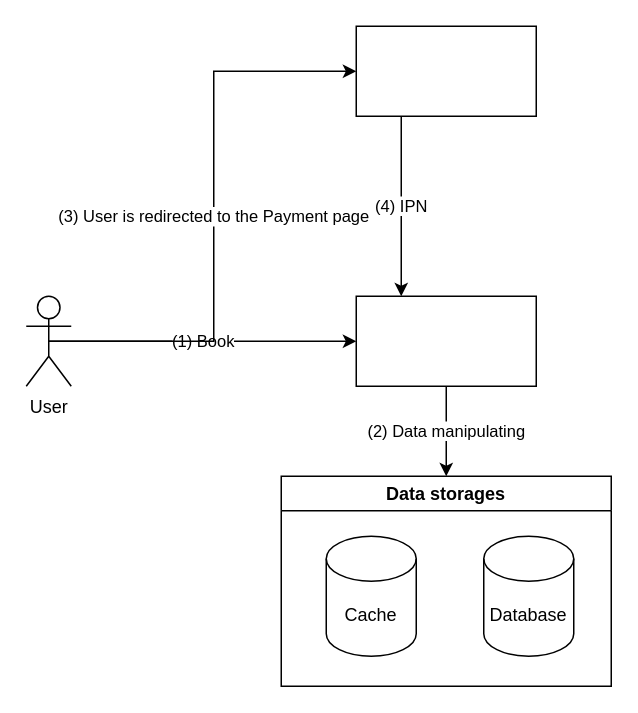
This 638x713 diagram has some shape labels left out. Here are the shapes that lost their labels. From the top down, the centre of each, then its label:
the point at 445,70: Payment Gateway
the point at 445,340: Booking APIs
